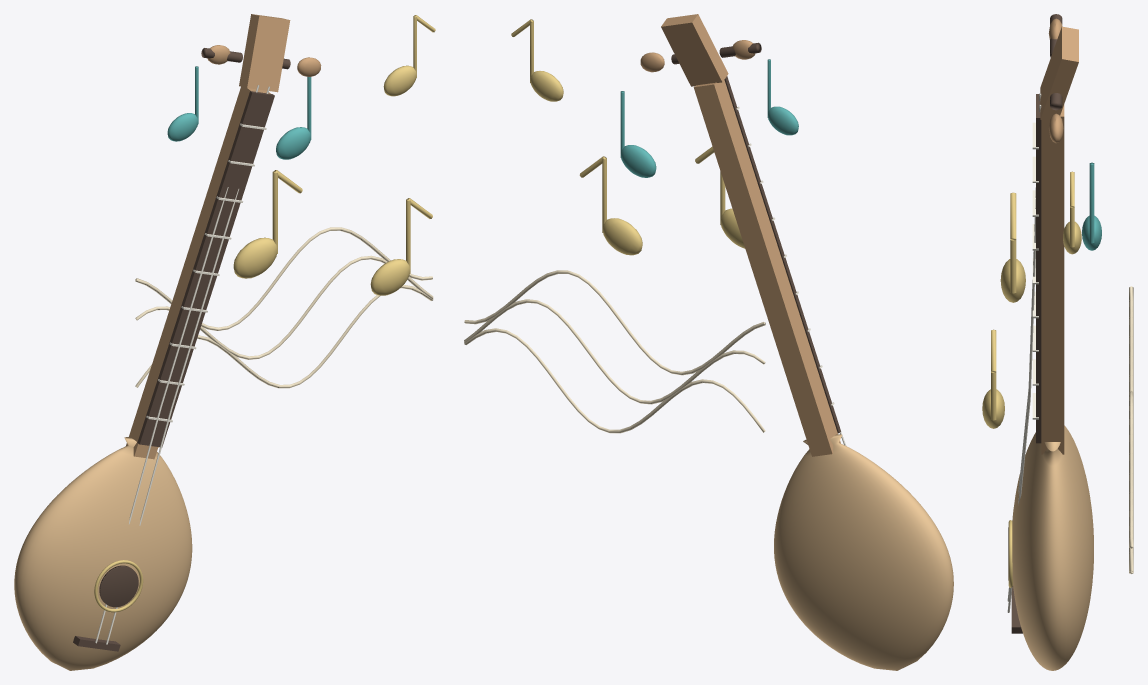
File: kui.glb
The picture shows the model from 3 angles, left to right: view 1: azimuth 30°, elevation 25°; view 2: azimuth 150°, elevation 25°; view 3: azimuth 270°, elevation 25°; orthographic projection. The views are drawn at different scales.
Visible parts, largest first — view 1: body, fingerboard, note-head (×5), neck, wave (×3), head, string (×2), soundhole; view 2: body, neck, wave (×3), head, note-head (×3), fingerboard; view 3: body, neck, note-head (×4), head, fingerboard, wave, string (×2), note-stem (×3), note-flag (×2), pegknob, ring, bridge.
Part boxes in pixels (x1,y1,x2,y2): body: (14, 437, 192, 670); fingerboard: (137, 91, 274, 447); note-head (×5): (167, 65, 416, 295); neck: (126, 86, 270, 459); wave (×3): (135, 227, 433, 388); head: (239, 14, 290, 92); string (×2): (95, 85, 270, 644); soundhole: (99, 565, 138, 607); body: (774, 434, 953, 670); neck: (693, 80, 840, 456); wave (×3): (464, 270, 765, 433); head: (661, 14, 728, 86); note-head (×3): (530, 71, 656, 255); fingerboard: (724, 76, 840, 433); body: (1012, 425, 1093, 670); neck: (1041, 104, 1064, 454); note-head (×4): (982, 215, 1101, 428); head: (1040, 26, 1078, 121); fingerboard: (1036, 94, 1041, 443); wave: (1129, 286, 1133, 548); string (×2): (1007, 93, 1041, 612); note-stem (×3): (991, 162, 1094, 420); note-flag (×2): (991, 192, 1016, 372); pegknob: (1049, 113, 1063, 143); ring: (1008, 520, 1012, 587); bridge: (1011, 586, 1022, 633).
Bounding box in the file's own units: 3.19 × 4.12 × 0.7699.
